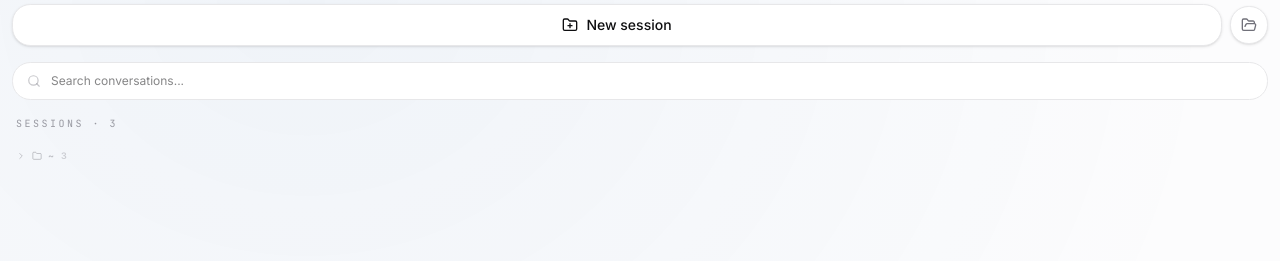
Test case: ConversationSearch › shows no results message when nothing matches
The image size is (1280, 261).
Type "zzz_no_match" into the field with placeholder "Search conversations...". click: (652, 81)
box: [51,73,1253,89]
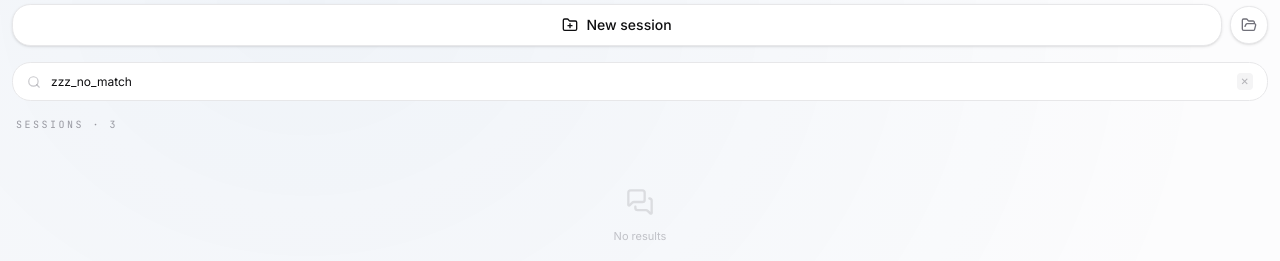
Expected: the text "No results" is shown, [614,228,666,244]
